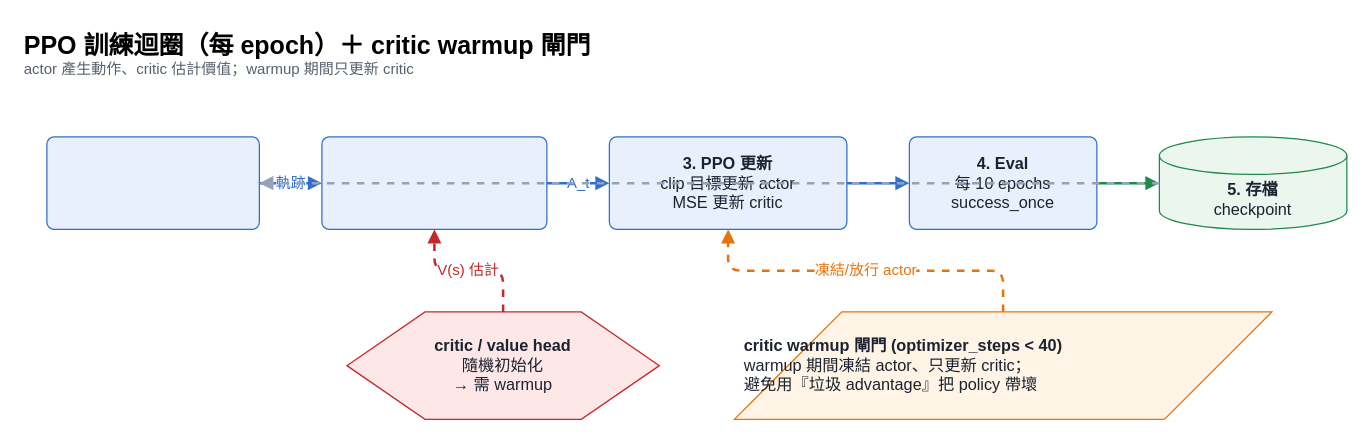
This 1369x441 diagram has some shape labels left out. Here are the shapes that lost their labels. From the top down, the centre of each, then its label:
At pixel 152 182: "1. Rollout policy 在 LIBERO 互動蒐集軌跡".
At pixel 434 182: "2. 估計 Advantage critic 估 V(s) GAE 算 A_t".
